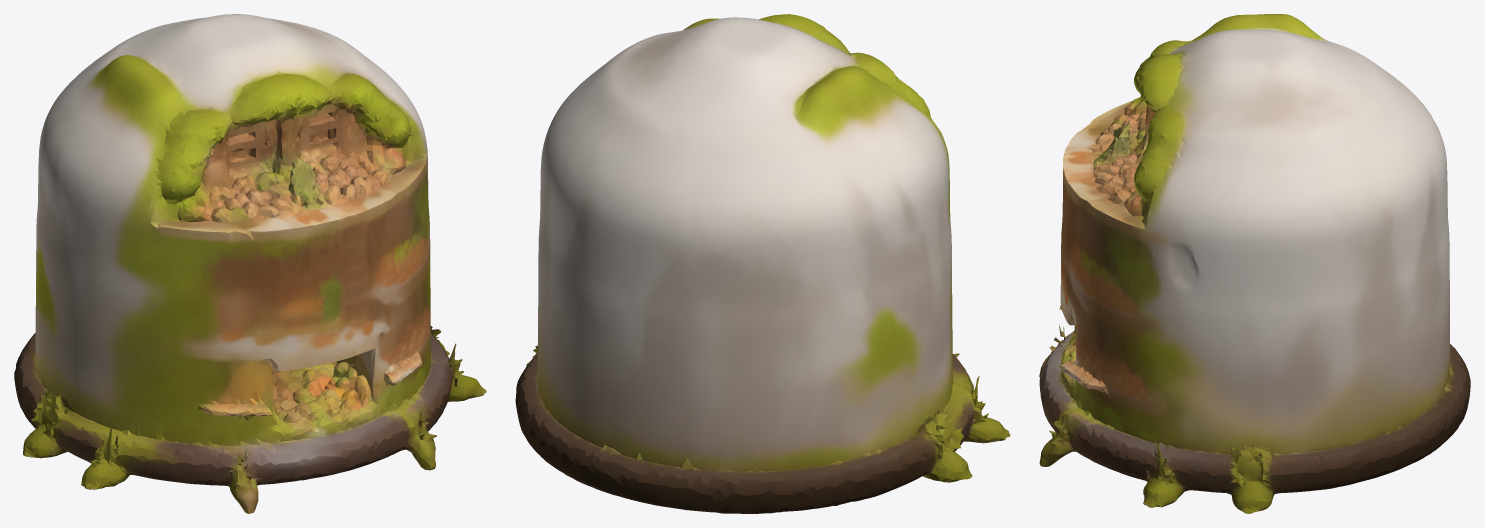
3 renders of one model, left to right at view 1: azimuth 30°, elevation 25°; view 2: azimuth 150°, elevation 25°; view 3: azimuth 270°, elevation 25°, orthographic. The views are drawn at different scales.
Parts seen in each view (by area): view 1: 047; view 2: 047; view 3: 047.
Boxes of the visible parts, x1=… form: 047: x1=14, y1=14, x2=486, y2=513; 047: x1=515, y1=14, x2=1010, y2=513; 047: x1=1039, y1=14, x2=1470, y2=513.
Bounding box in the file's own units: 1.9 × 1.63 × 1.69.
Materials: 1 (1 with a texture image).
